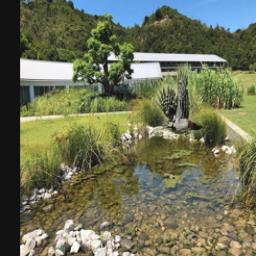Woodpecker: (154, 65, 202, 138)
